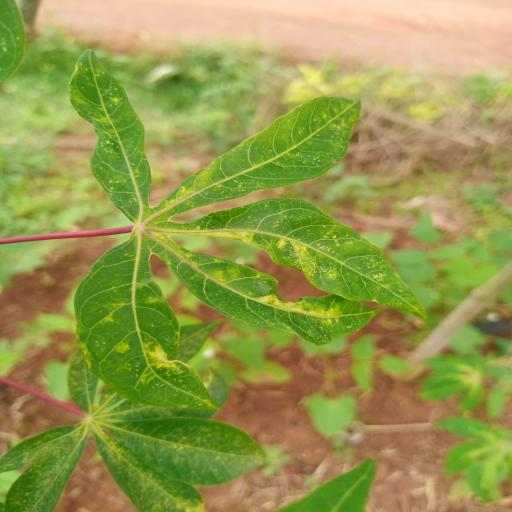Cassava_Mosaic: (70, 46, 440, 416)
